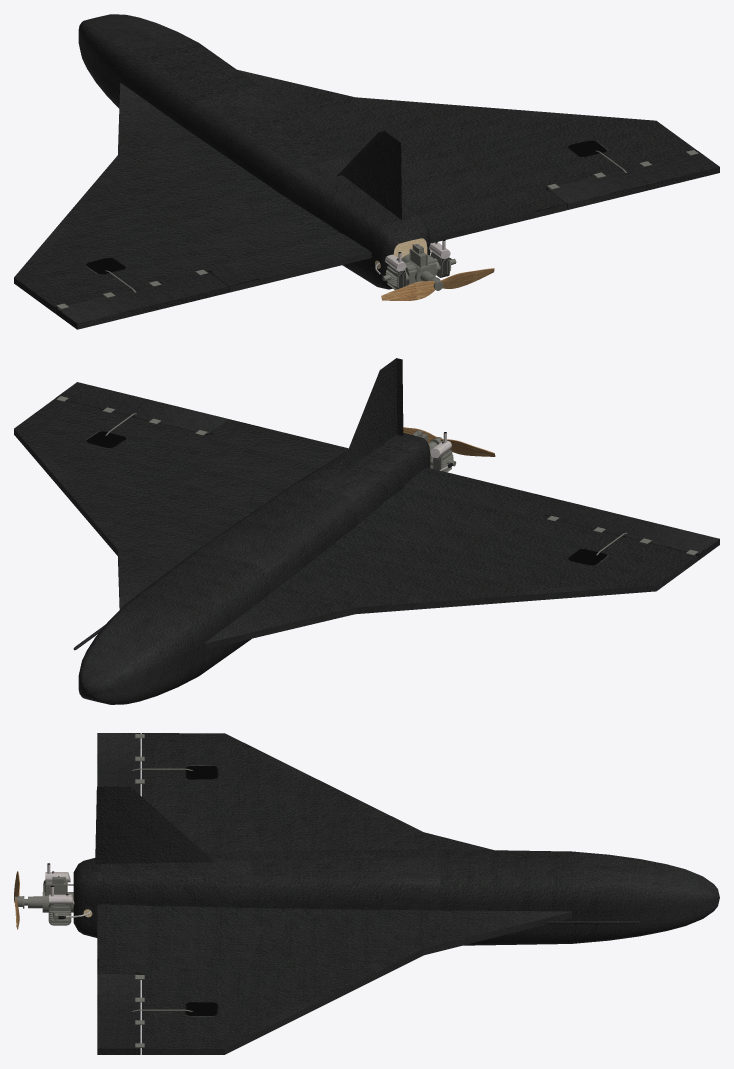
File: DeltaWing.glb
3 views of the same model, one above another, from view 1: azimuth 30°, elevation 25°; view 2: azimuth 150°, elevation 25°; view 3: azimuth 270°, elevation 25° (orthographic).
Parts seen in each view (by area): view 1: body, flap2, flap1, motor, rotor; view 2: body, flap2, flap1, motor, rotor; view 3: body, flap1, flap2, motor.
Part boxes in pixels (left/top/right/bottom): body: left=14, top=14, right=697, bottom=313; flap2: left=55, top=269, right=229, bottom=329; flap1: left=546, top=150, right=719, bottom=209; motor: left=380, top=239, right=456, bottom=289; rotor: left=381, top=268, right=494, bottom=300; body: left=14, top=358, right=697, bottom=704; flap2: left=546, top=502, right=719, bottom=560; flap1: left=56, top=382, right=229, bottom=435; motor: left=412, top=430, right=456, bottom=472; rotor: left=403, top=427, right=495, bottom=456; body: left=73, top=733, right=719, bottom=1054; flap1: left=97, top=974, right=144, bottom=1054; flap2: left=97, top=733, right=144, bottom=795; motor: left=23, top=863, right=74, bottom=925.
Bounding box in the file's own units: 4.57 × 0.9712 × 4.32.
Materials: 1 (1 with a texture image).
